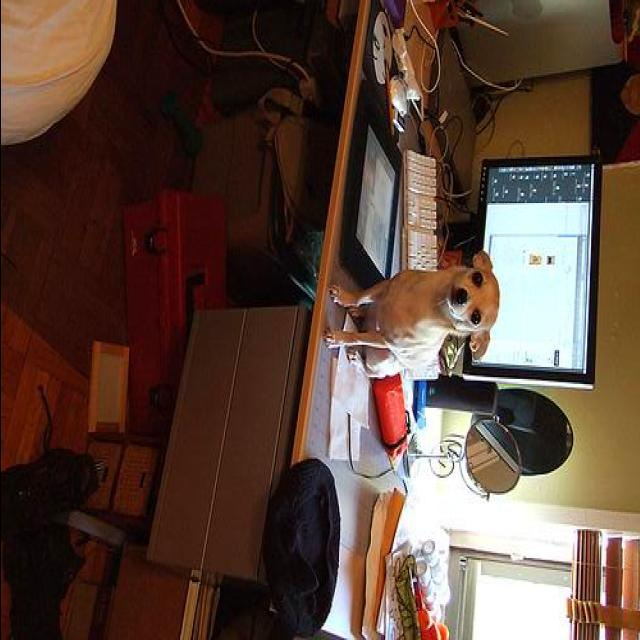chihuahua: (324, 250, 503, 380)
